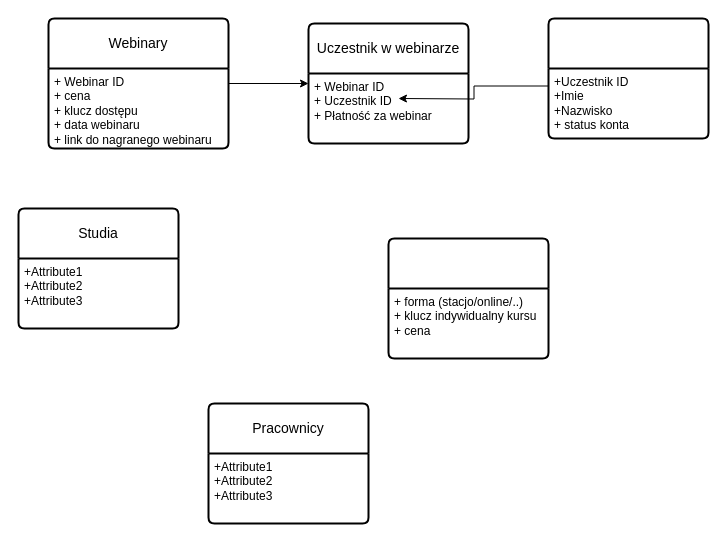
Image size: 726x541. Some labels were removed from this diagram. Each missing label, with the box of its shape:
Kursy: (387, 237, 549, 359)
Uczestnicy: (547, 17, 709, 139)
